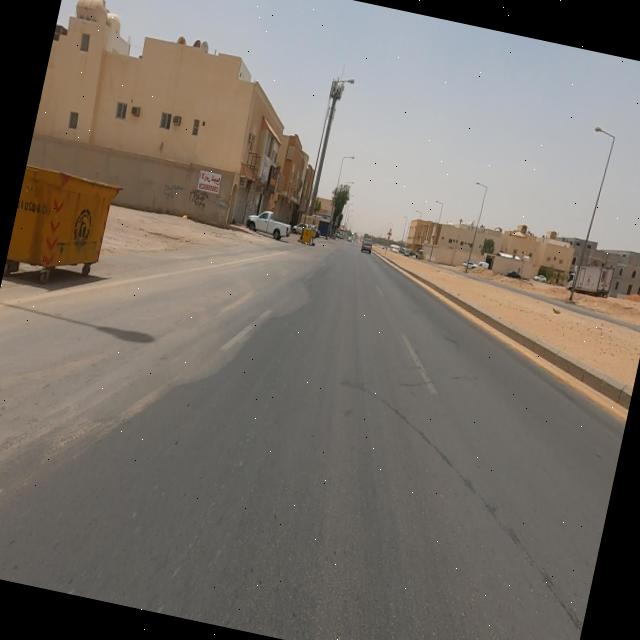Graffiti: (188, 189, 211, 212), (163, 182, 184, 204), (217, 193, 232, 215)
